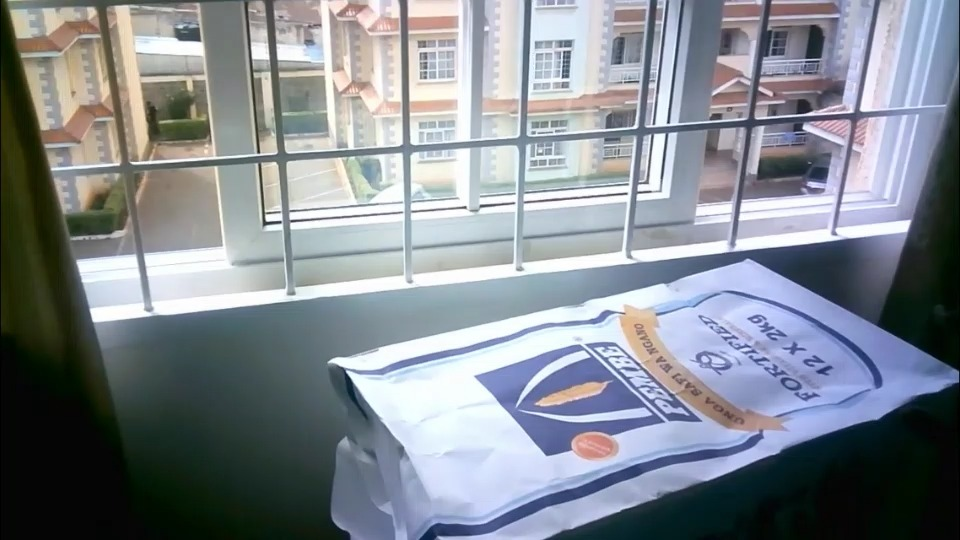wheat_flour_blue_label: (329, 260, 953, 540)
